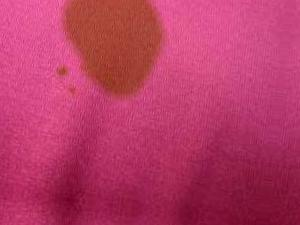stain: (61, 1, 167, 103), (54, 62, 72, 77), (66, 84, 82, 97)
